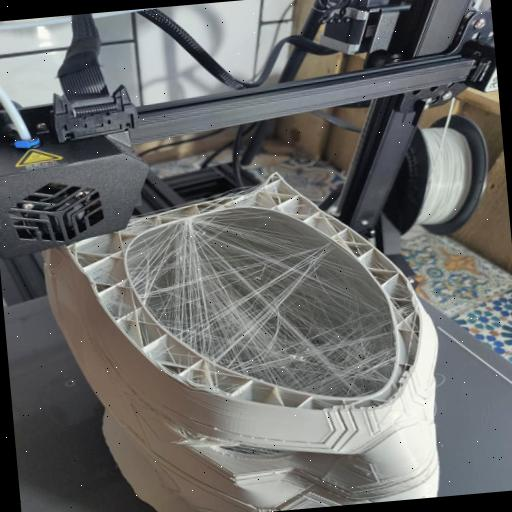stringing: (119, 196, 388, 402)
